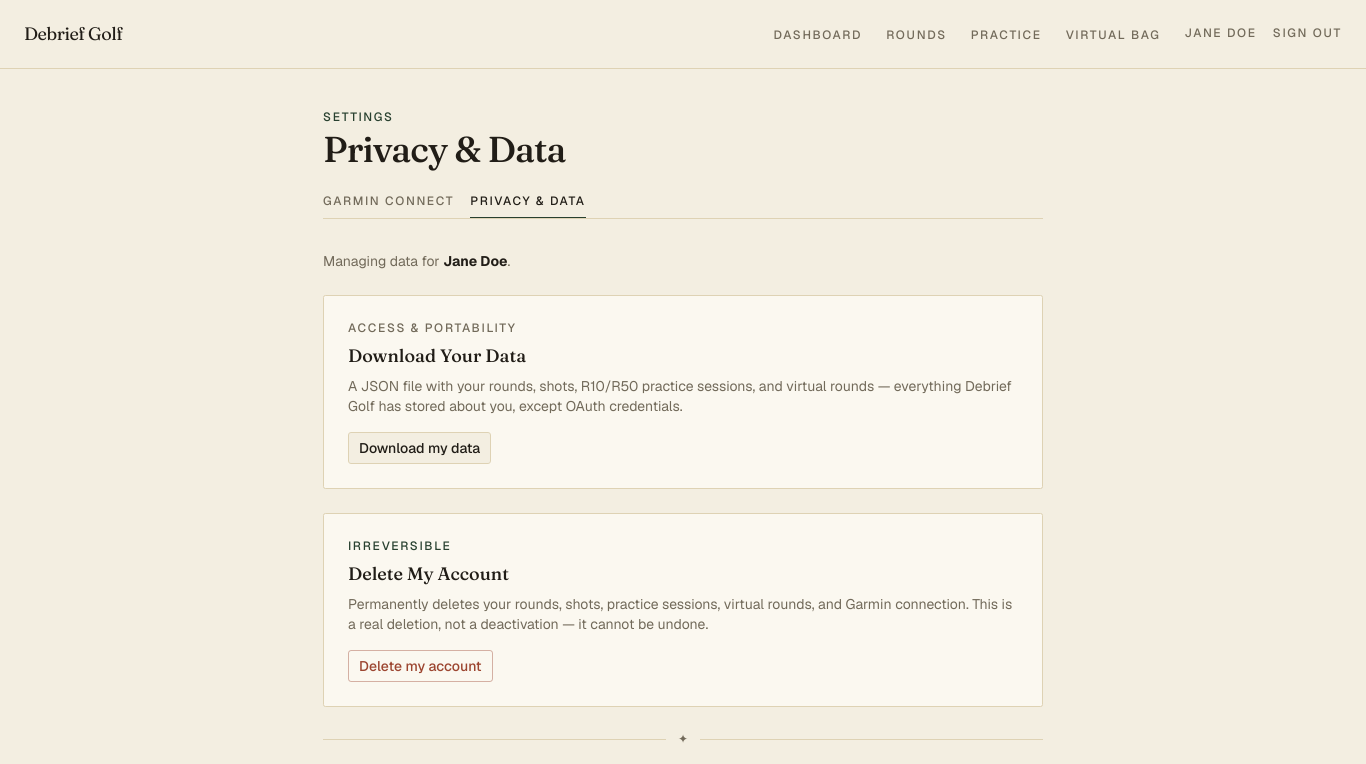
Test: PrivacySettingsPage › shows an error when export fails
Click the button "Download my data".
click(420, 448)  # box [348,432,491,464]
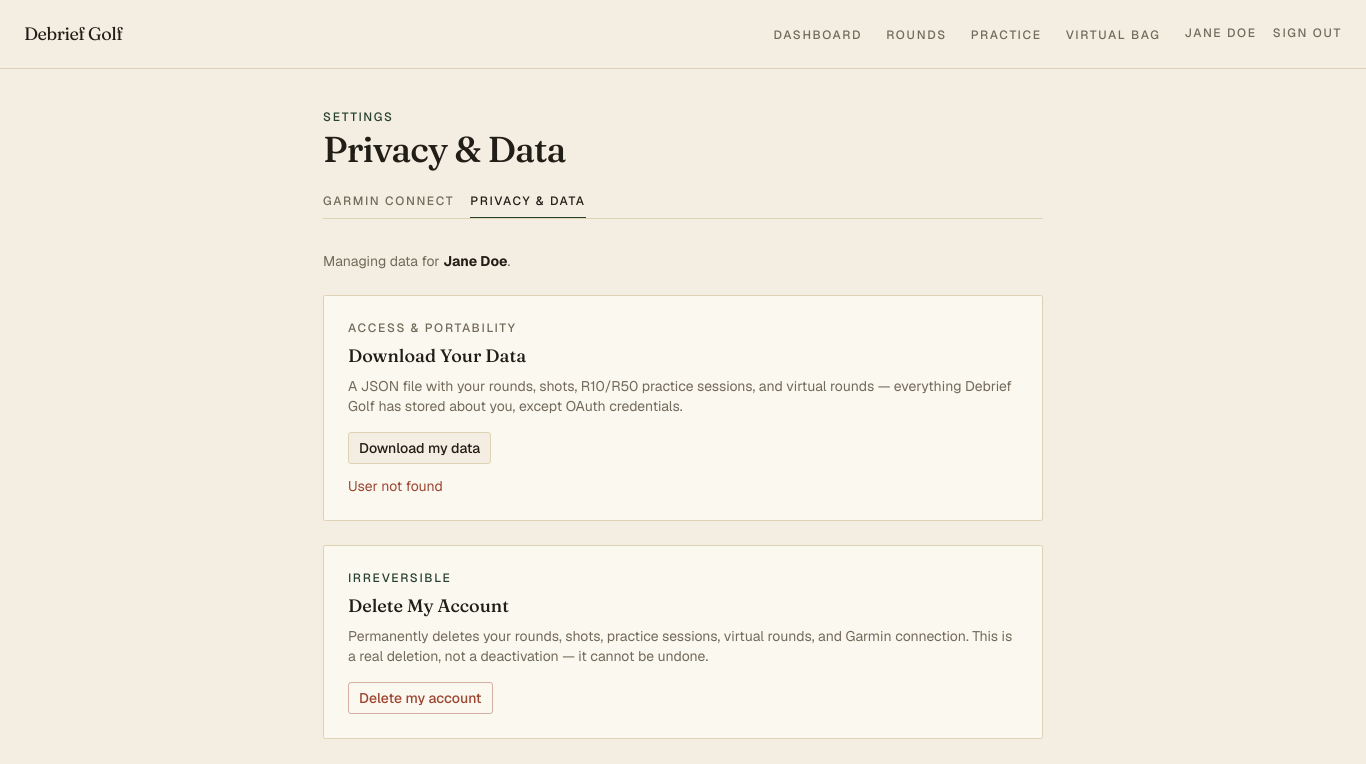
Expected: the message reads "User not found", [348,477,443,495]
